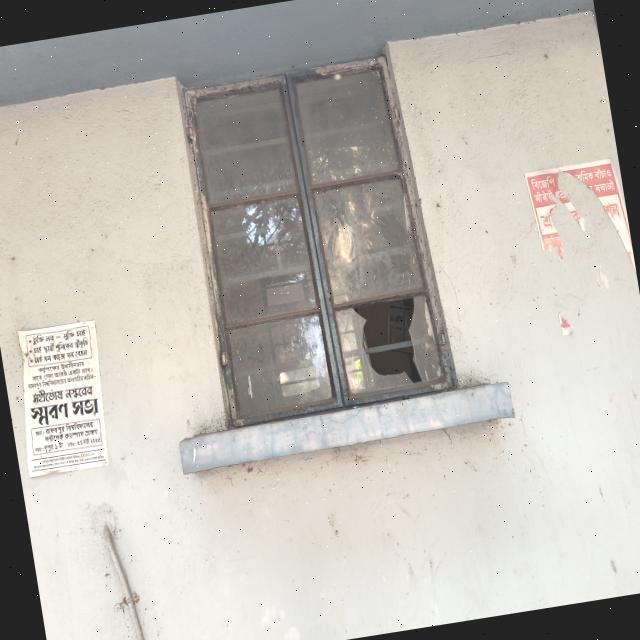Broken window pane: (177, 39, 459, 431)
